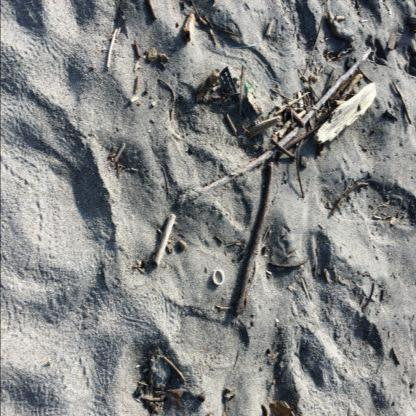Bottle: (212, 270, 224, 285)
Other plastic: (219, 67, 238, 94), (245, 82, 255, 93), (232, 44, 256, 48)
